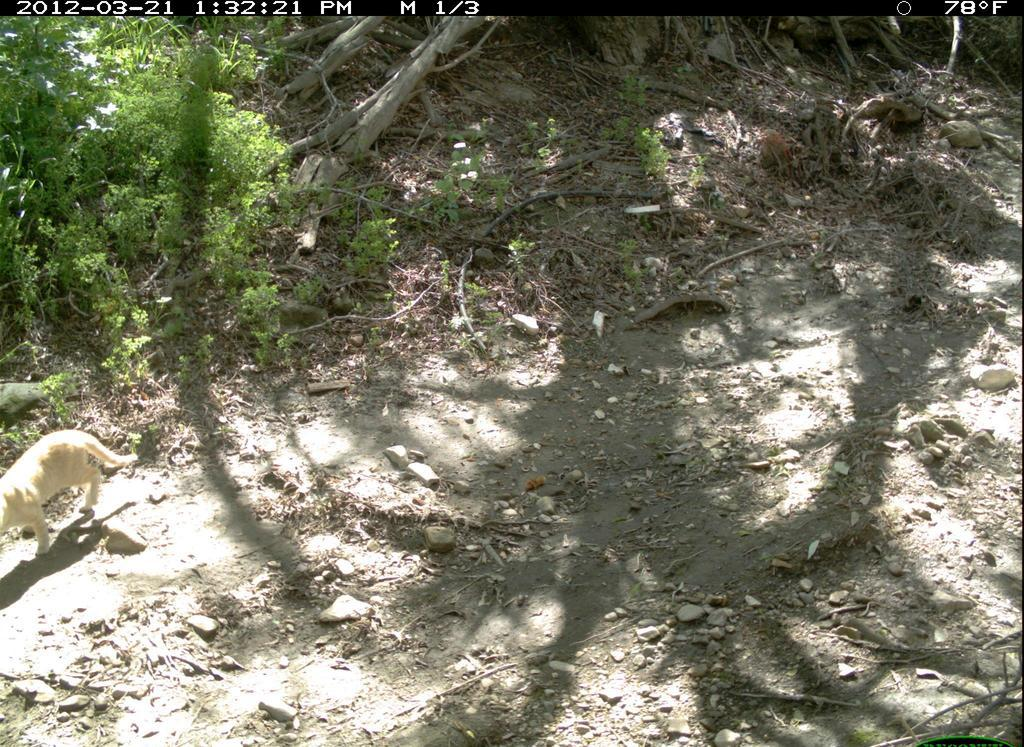cat: (4, 422, 146, 568)
